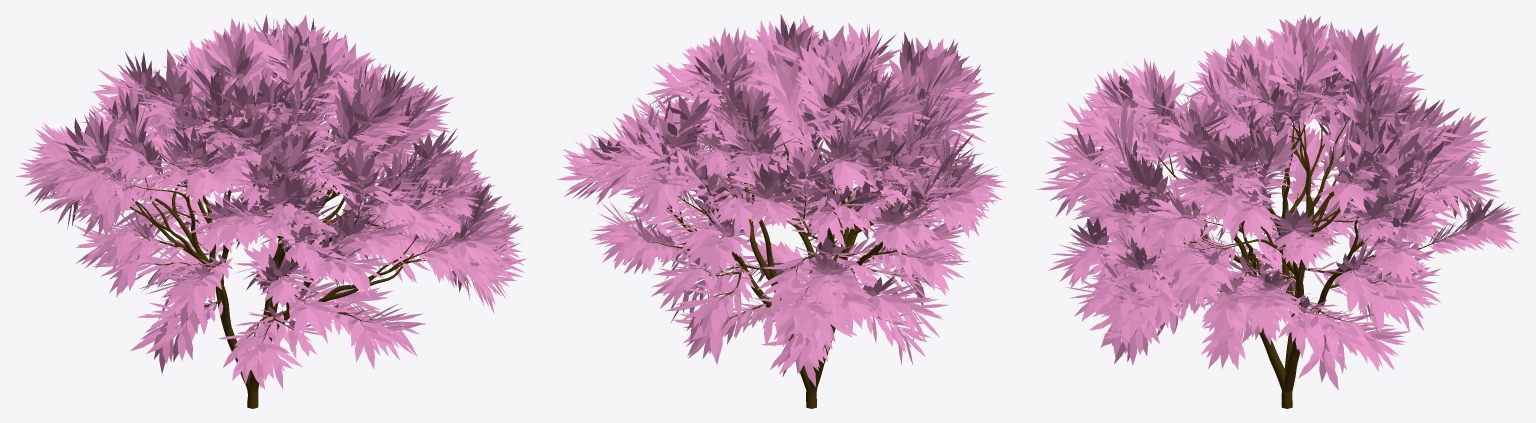
The model's file is sakura_tree.fbx.
3 renders of one model, left to right at view 1: azimuth 30°, elevation 25°; view 2: azimuth 150°, elevation 25°; view 3: azimuth 270°, elevation 25°, orthographic.
Visible parts, largest first — view 1: tree; view 2: tree; view 3: tree.
Boxes of the visible parts, bbox=[...] form: tree: bbox=[15, 14, 526, 408]; tree: bbox=[556, 14, 1006, 408]; tree: bbox=[1036, 14, 1520, 408].
Size of the model in its own units: 173 by 145 by 180.
